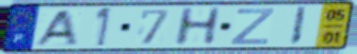1: (94, 6, 114, 49)
7: (138, 9, 172, 46)
A: (31, 8, 80, 48)
H: (172, 6, 225, 48)
I: (287, 5, 309, 47)
Z: (228, 7, 277, 46)
